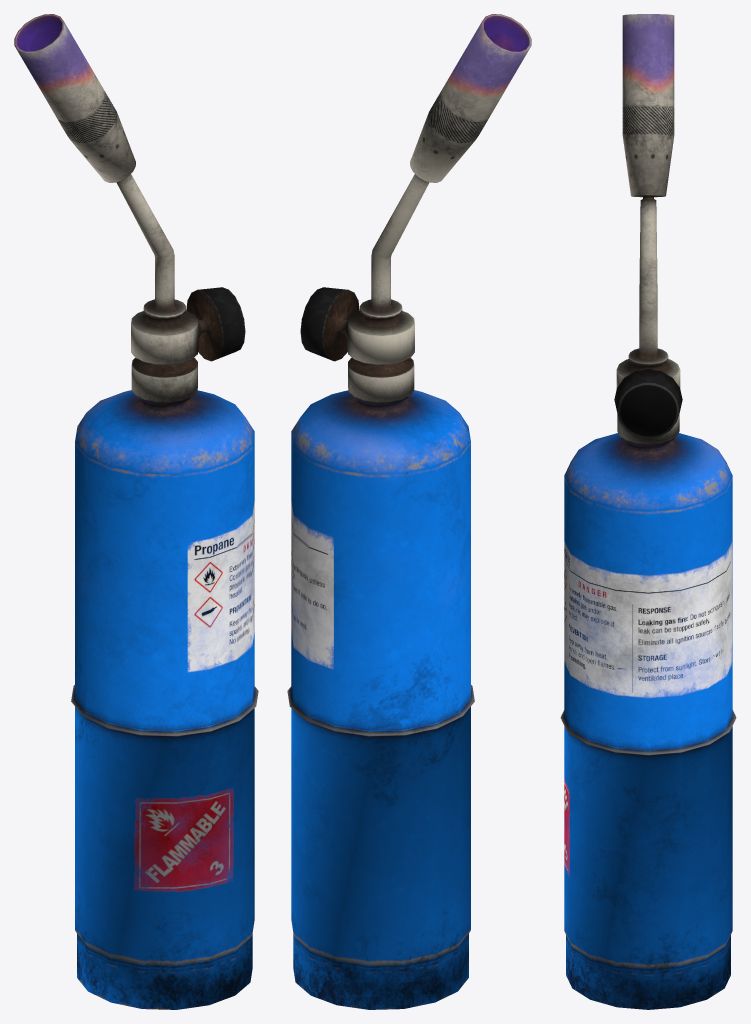
Rendered from welder.obj.
3 renders of one model, left to right at view 1: azimuth 30°, elevation 25°; view 2: azimuth 150°, elevation 25°; view 3: azimuth 270°, elevation 25°, orthographic. The views are drawn at different scales.
Visible parts, largest first — view 1: Cylinder.002_Cylinder.004; view 2: Cylinder.002_Cylinder.004; view 3: Cylinder.002_Cylinder.004.
Part boxes in pixels (x1,y1,x2,y2): Cylinder.002_Cylinder.004: (14,14,258,1009); Cylinder.002_Cylinder.004: (287,14,531,1009); Cylinder.002_Cylinder.004: (560,14,736,1009).
Size of the model in its own units: 2.08 by 8.53 by 1.49.
Materials: 1 (1 with a texture image).
